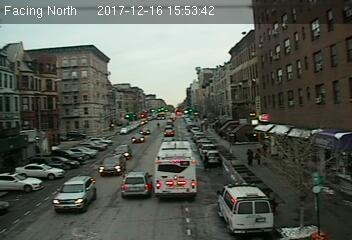bus: (154, 140, 197, 202)
car: (53, 176, 97, 208), (122, 169, 153, 197), (97, 155, 124, 175), (203, 149, 222, 166), (113, 144, 133, 159), (131, 134, 144, 142)
police: (212, 182, 272, 235)
